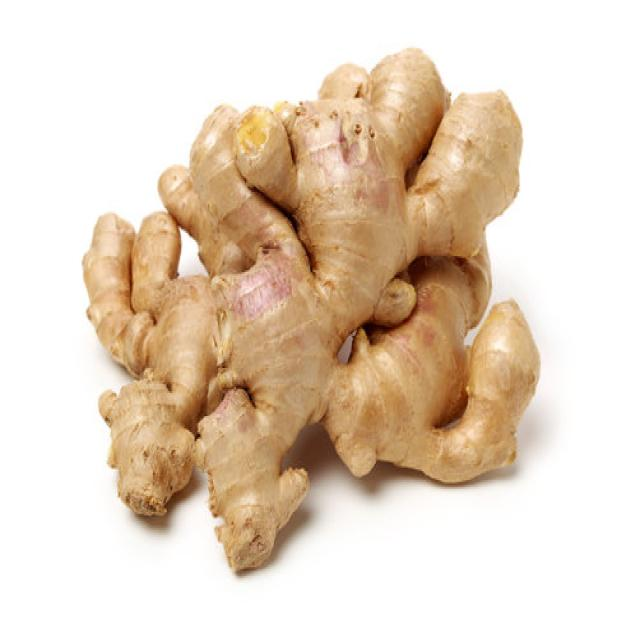Ginger: (80, 45, 540, 572)
